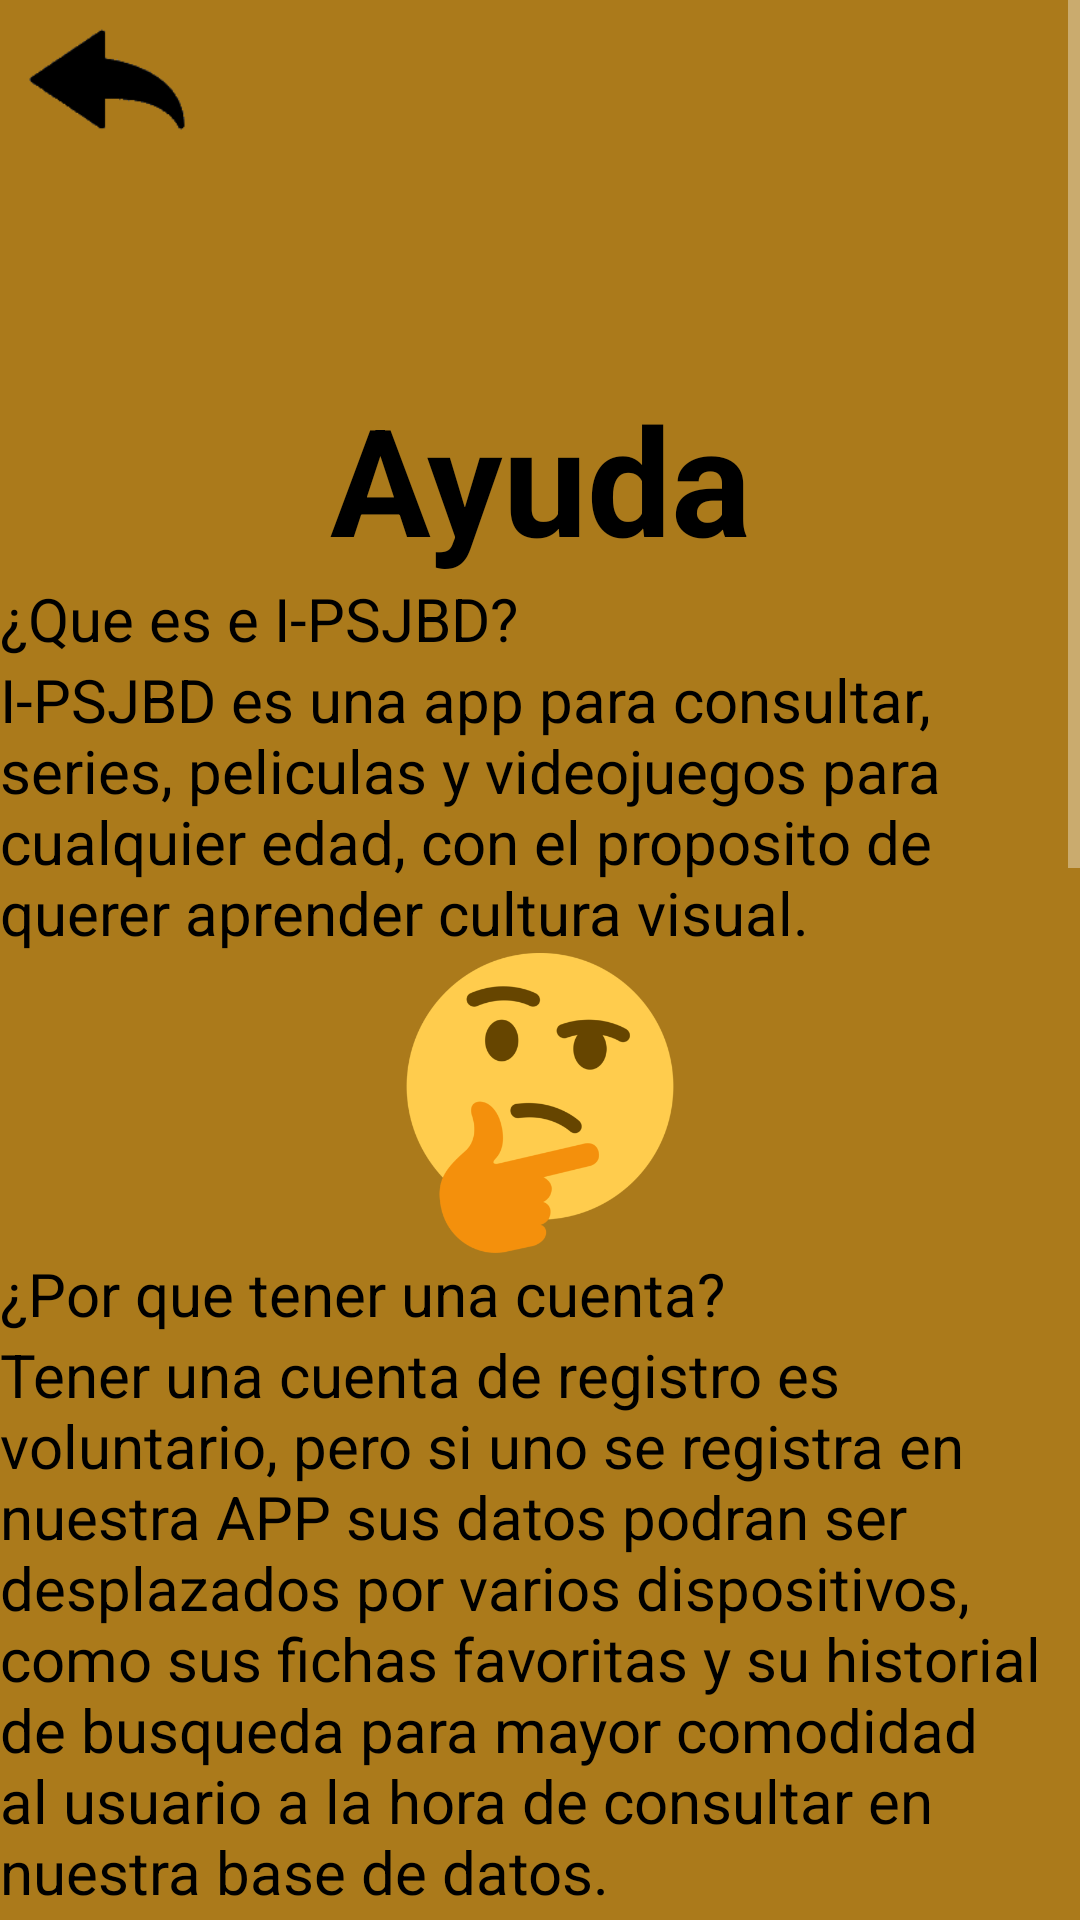

Named icons in this screenshot (1080×1920) and their centers, point (x, y):
enrere: point (107, 79)
pensar: point (540, 1103)
